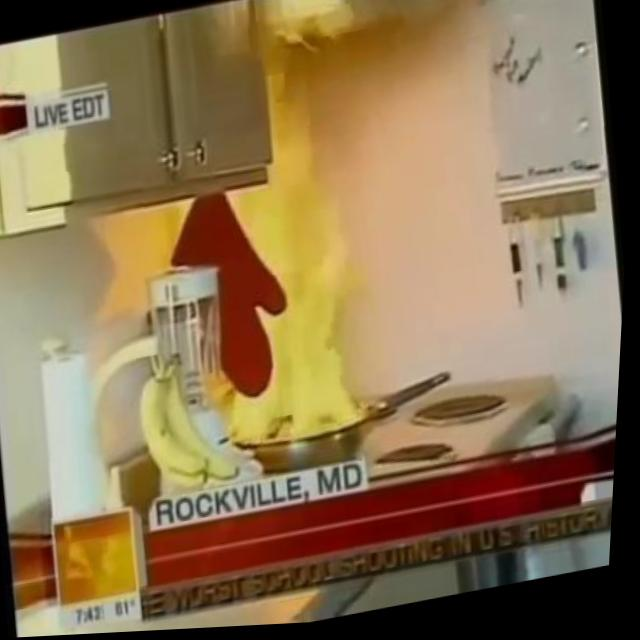fire: (194, 156, 391, 461)
